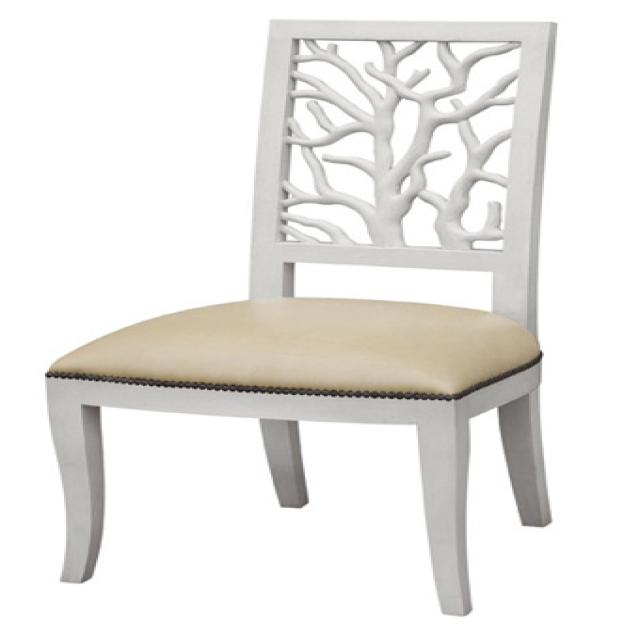chair: (43, 18, 556, 616)
